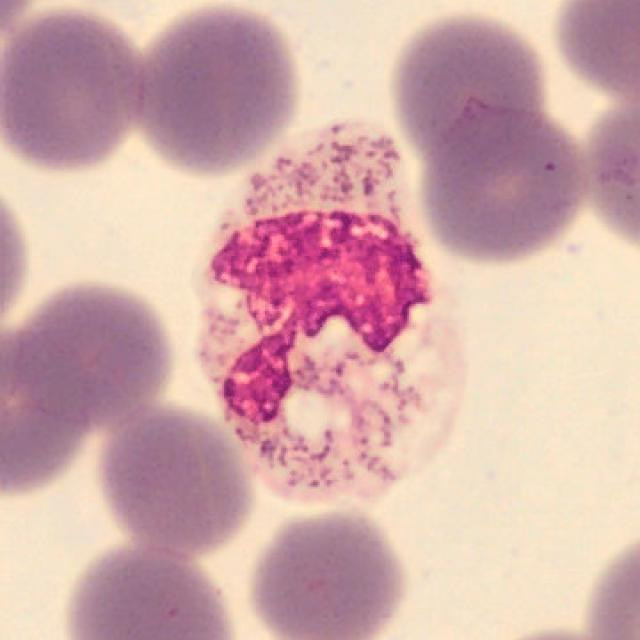Neutrofilo segmentado: (192, 121, 464, 512)
